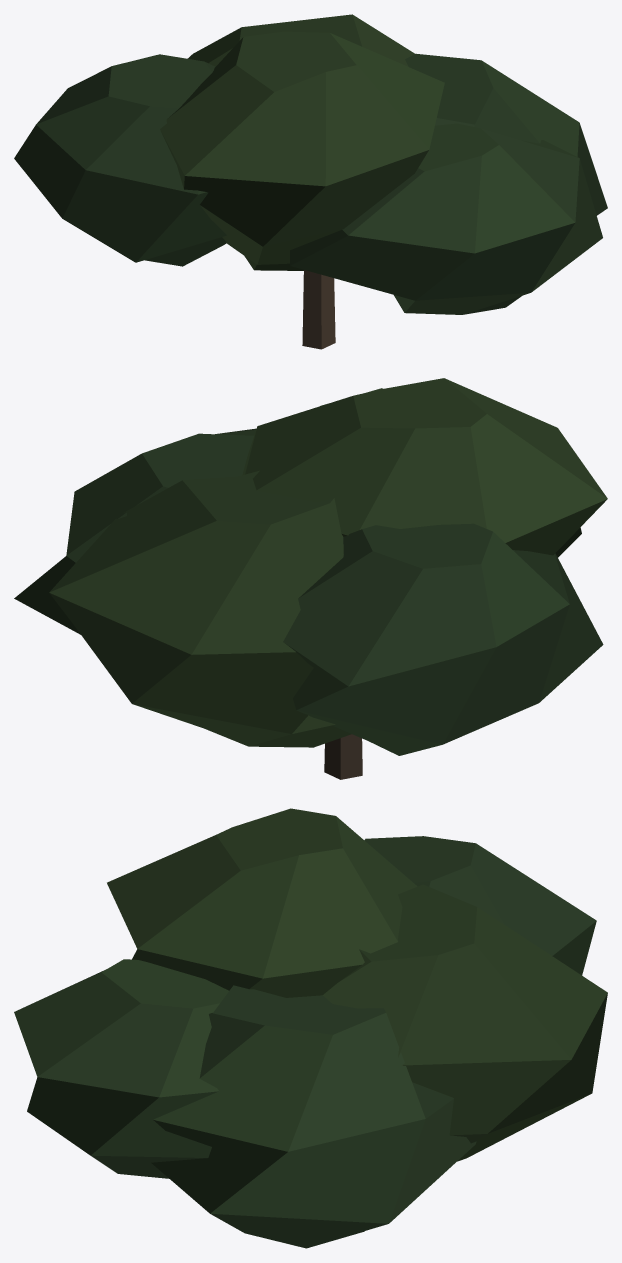
The model's file is field_bush.glb.
The picture shows the model from 3 angles, top to bottom: view 1: azimuth 30°, elevation 25°; view 2: azimuth 150°, elevation 25°; view 3: azimuth 270°, elevation 25°; orthographic projection. The views are drawn at different scales.
Parts seen in each view (by area): view 1: field_bush; view 2: field_bush; view 3: field_bush.
Boxes of the visible parts, bbox=[...] form: field_bush: bbox=[14, 14, 607, 349]; field_bush: bbox=[14, 378, 607, 779]; field_bush: bbox=[14, 808, 607, 1248].
Size of the model in its own units: 1.51 by 0.9808 by 1.49.
Materials: 1 (1 with a texture image).
